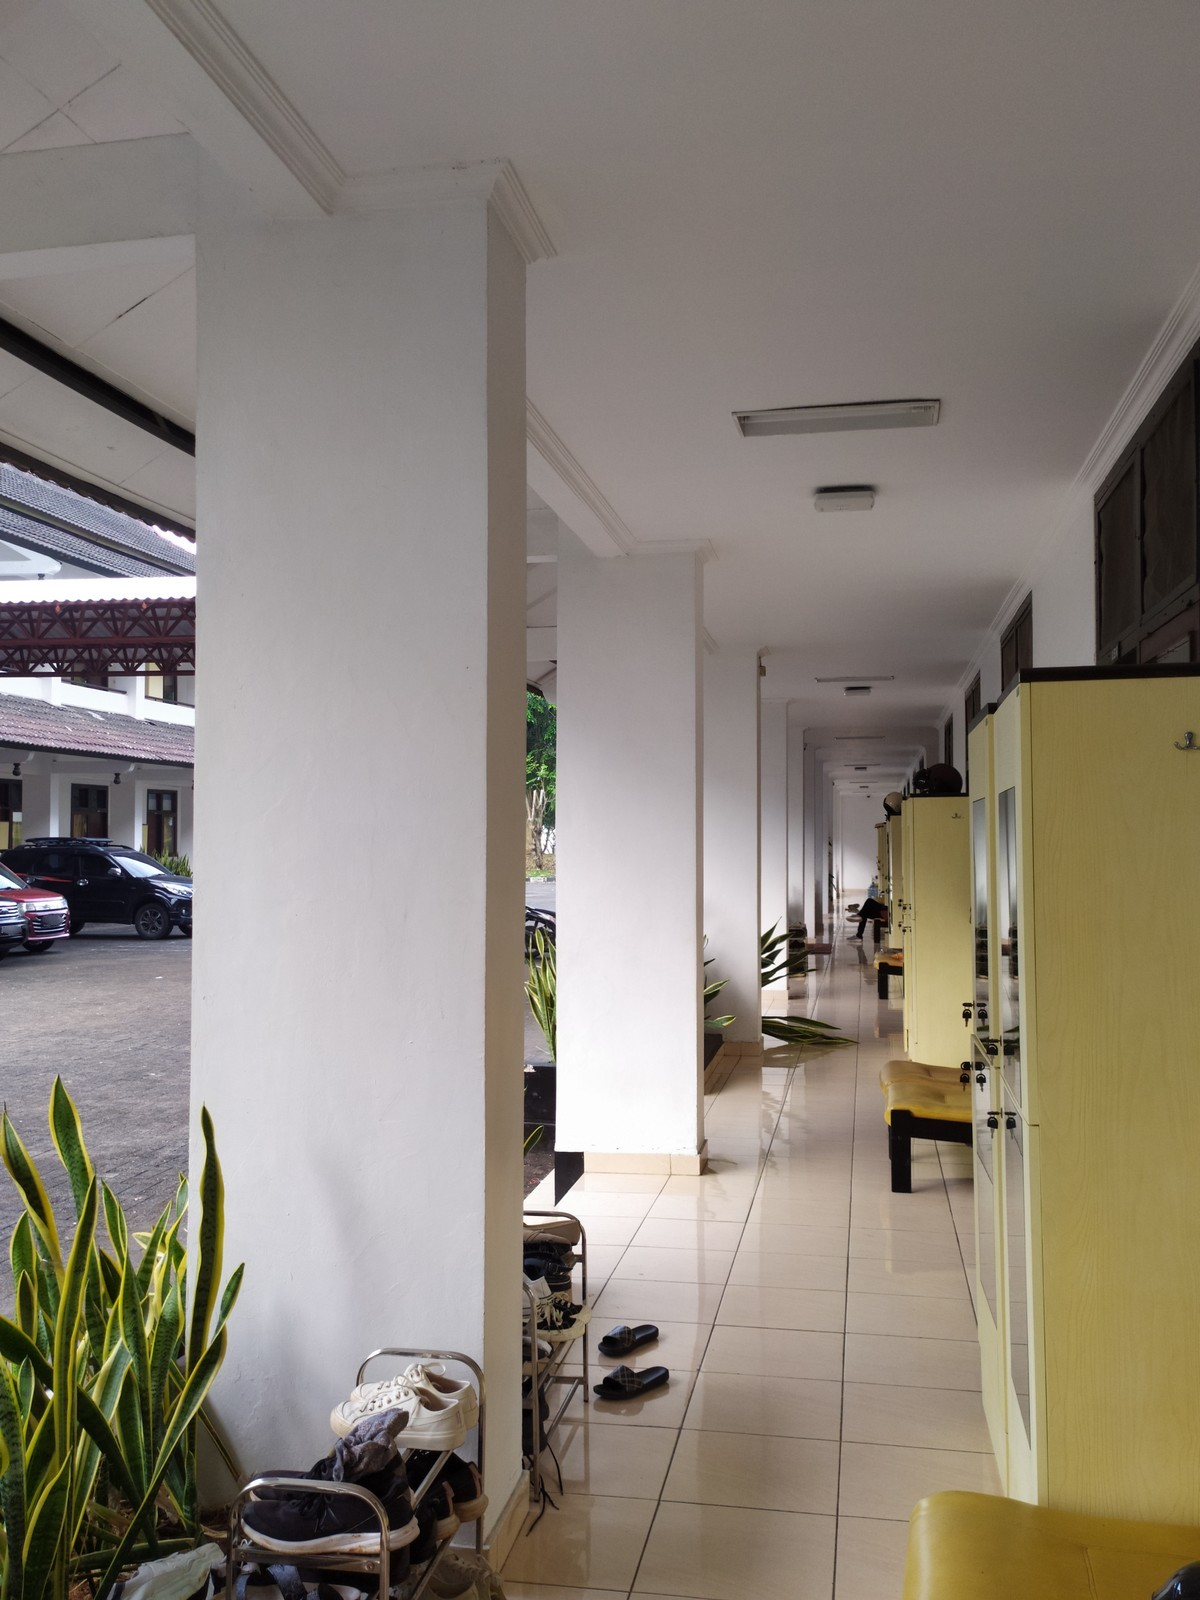concrete beam: (21, 127, 242, 299)
concrete column: (176, 170, 542, 1589), (548, 532, 722, 1184)
